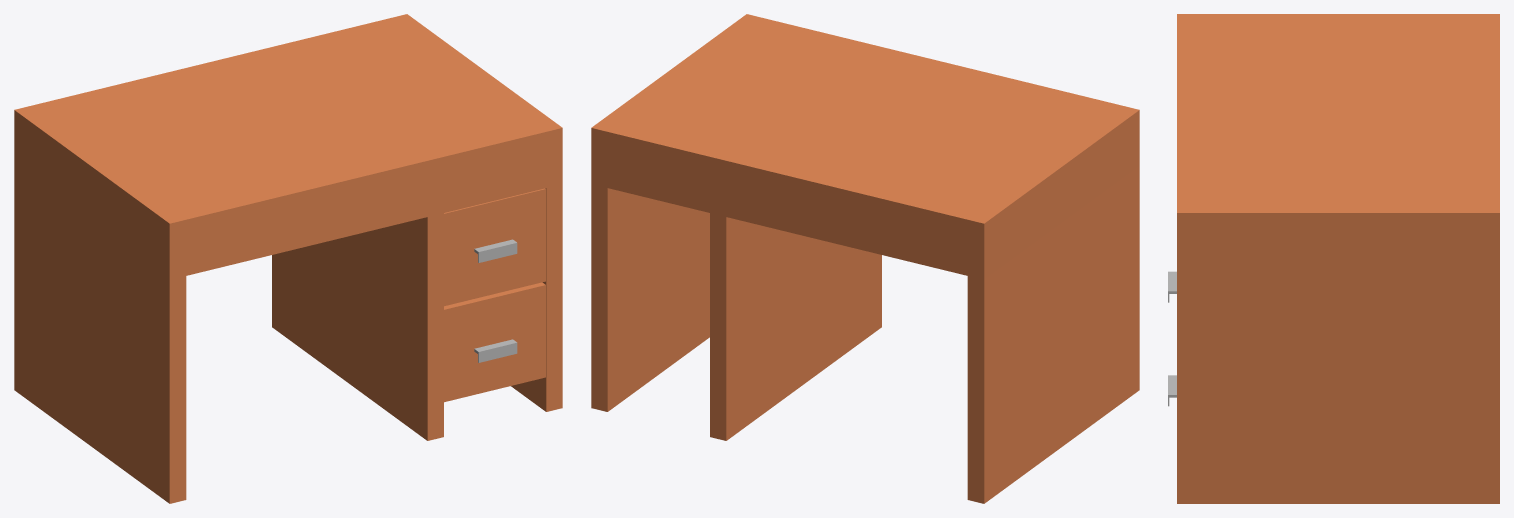
The model's file is Desk.fbx.
The picture shows the model from 3 angles, left to right: view 1: azimuth 30°, elevation 25°; view 2: azimuth 150°, elevation 25°; view 3: azimuth 270°, elevation 25°; orthographic projection. The views are drawn at different scales.
Visible parts, largest first — view 1: Desk; view 2: Desk; view 3: Desk.
Part boxes in pixels (box(x1,y1,x2,y2)): Desk: box(14, 14, 562, 503); Desk: box(591, 14, 1139, 503); Desk: box(1168, 14, 1499, 503).
Size of the model in its own units: 145 by 98.71 by 102.
